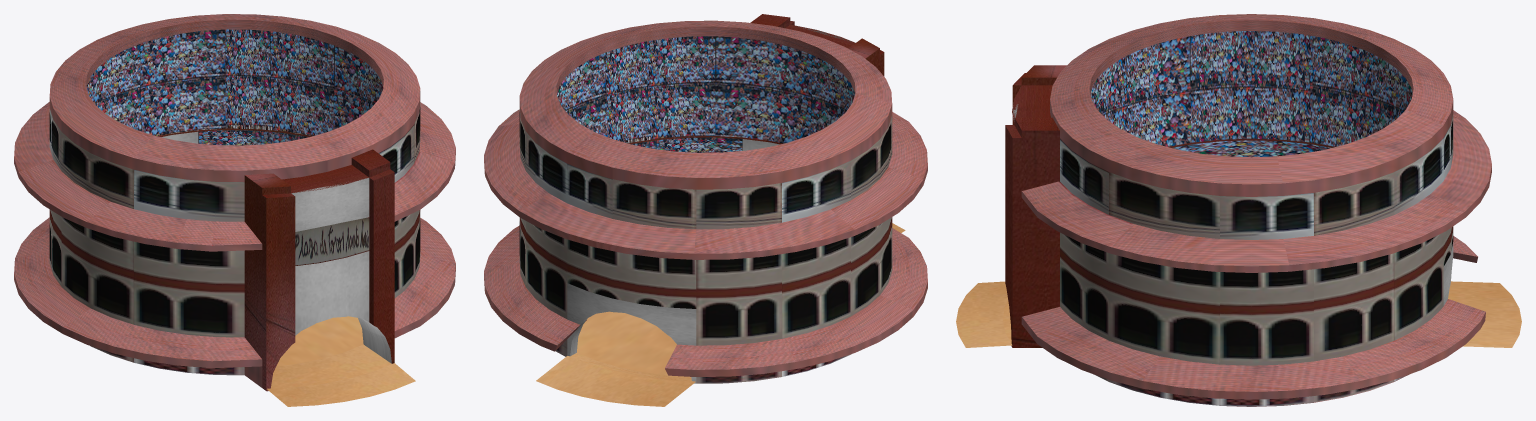
File: plaza.obj
The picture shows the model from 3 angles, left to right: view 1: azimuth 30°, elevation 25°; view 2: azimuth 150°, elevation 25°; view 3: azimuth 270°, elevation 25°; orthographic projection. The views are drawn at different scales.
Parts seen in each view (by area): view 1: Plaza_de_toros; view 2: Plaza_de_toros; view 3: Plaza_de_toros.
Boxes of the visible parts, x1,y1,x2,y2 form: Plaza_de_toros: (14,14,455,406); Plaza_de_toros: (484,14,927,406); Plaza_de_toros: (956,14,1521,406).
Size of the model in its own units: 83.44 by 44.61 by 98.2.
